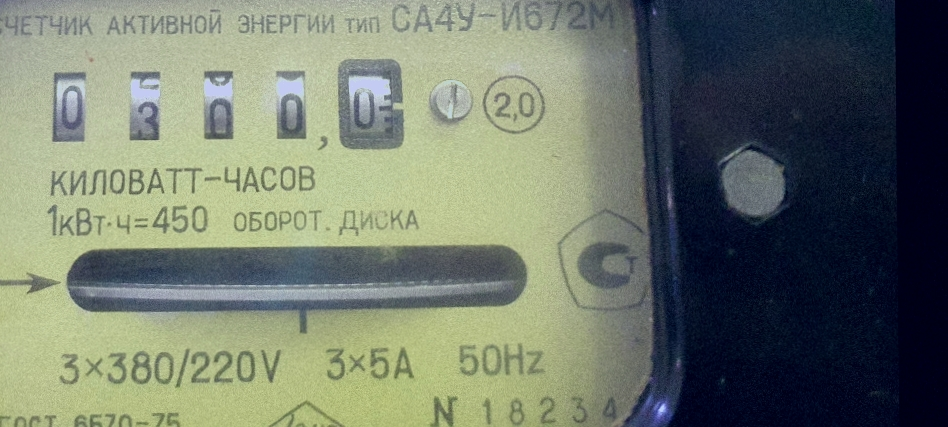0: (58, 80, 85, 132), (350, 83, 378, 132), (276, 90, 305, 137), (205, 93, 233, 141)
3: (133, 97, 161, 140)
screen: (31, 51, 413, 160)
